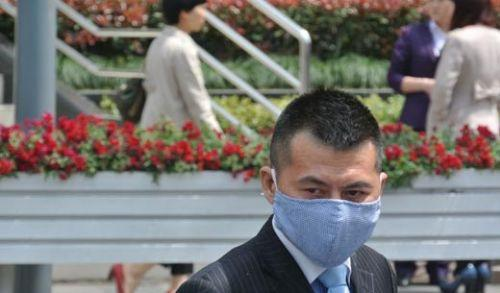NONE: (186, 4, 207, 33)
OK: (282, 166, 379, 263)
